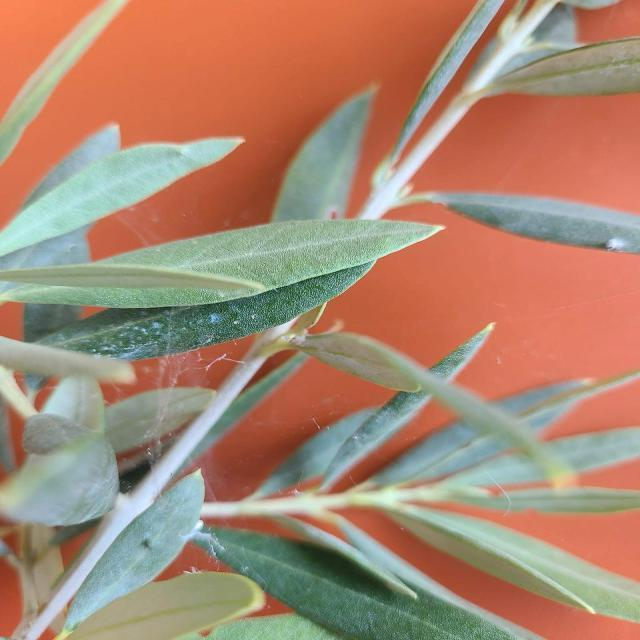Psyllid: (58, 304, 264, 361), (106, 387, 215, 454)
